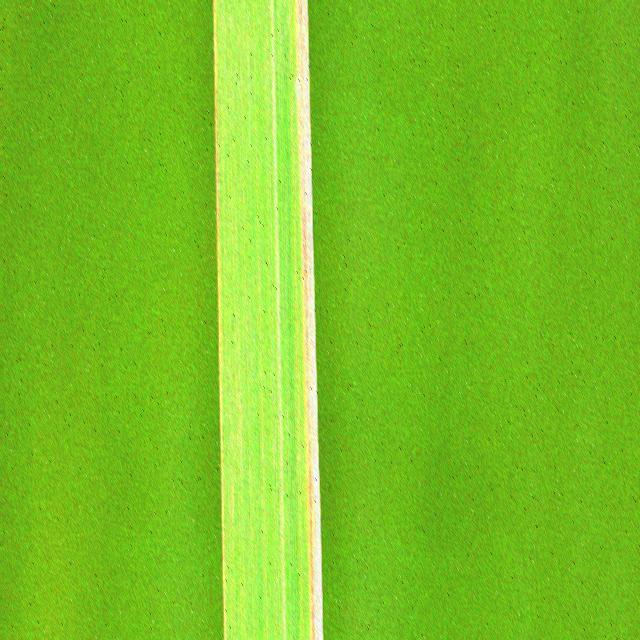BLB: (294, 0, 322, 640)
